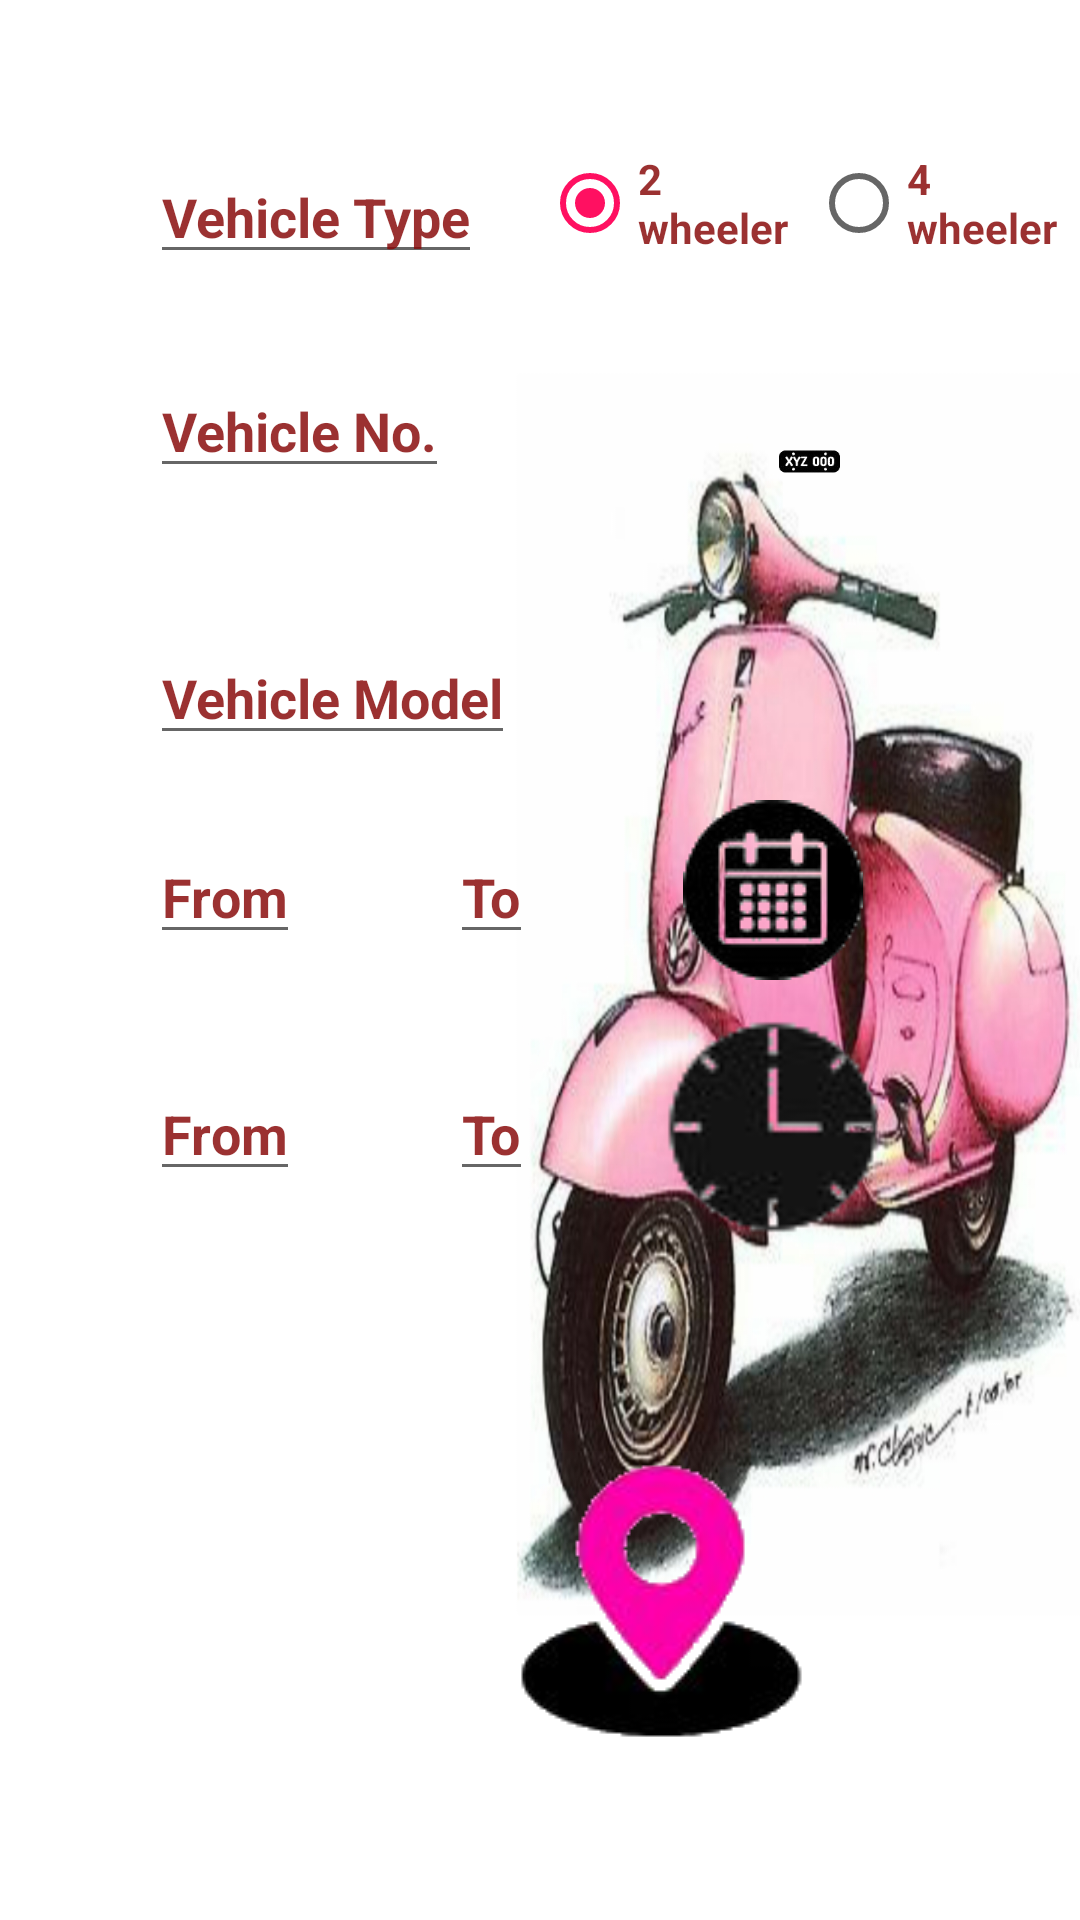

Screen size 1080 x 1920. Icon name, then its center in pixels as [x,y]:
calendarfinal: [773,890]
locationfinal: [665,1594]
